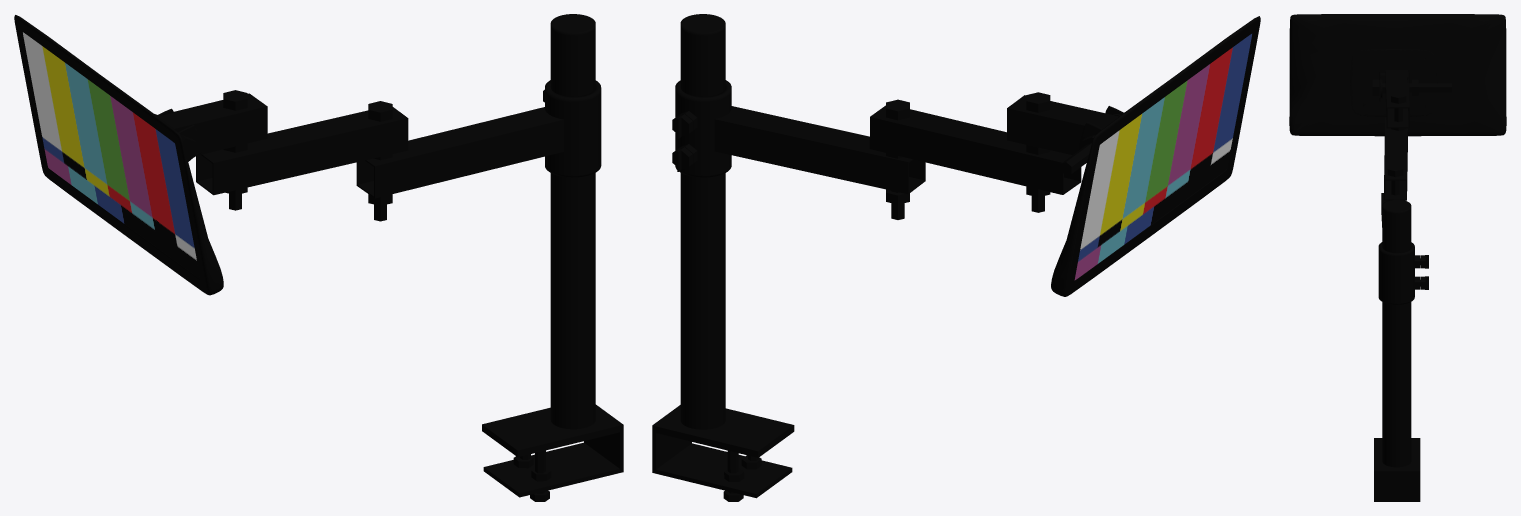
The model's file is Monitor.fbx.
The picture shows the model from 3 angles, left to right: view 1: azimuth 30°, elevation 25°; view 2: azimuth 150°, elevation 25°; view 3: azimuth 270°, elevation 25°; orthographic projection. The views are drawn at different scales.
Parts seen in each view (by area): view 1: Cube.011, Plane, Cylinder.009, Cube.005, Cube.007, Cube.009, Cylinder.012, Cylinder.015; view 2: Cube.011, Plane, Cylinder.009, Cube.005, Cube.007, Cube.009, Cylinder.015, Cylinder.012; view 3: Cube.007, Cube.011, Cylinder.009, Cube.005, Cube.009, Cylinder.013, Cylinder.015, Cylinder.012.
Boxes of the visible parts, x1=… form: Cube.011: x1=482, y1=14, x2=623, y2=501; Plane: x1=23, y1=32, x2=199, y2=278; Cylinder.009: x1=356, y1=80, x2=601, y2=198; Cube.005: x1=196, y1=107, x2=408, y2=195; Cube.007: x1=14, y1=15, x2=223, y2=295; Cube.009: x1=157, y1=93, x2=267, y2=155; Cylinder.012: x1=368, y1=101, x2=392, y2=221; Cylinder.015: x1=223, y1=90, x2=247, y2=210; Cube.011: x1=652, y1=14, x2=794, y2=501; Plane: x1=1074, y1=34, x2=1251, y2=280; Cylinder.009: x1=675, y1=80, x2=925, y2=194; Cube.005: x1=869, y1=105, x2=1081, y2=194; Cube.007: x1=1051, y1=16, x2=1260, y2=296; Cube.009: x1=1007, y1=95, x2=1118, y2=154; Cylinder.015: x1=1026, y1=92, x2=1050, y2=212; Cylinder.012: x1=886, y1=99, x2=909, y2=219; Cube.007: x1=1289, y1=14, x2=1506, y2=136; Cube.011: x1=1374, y1=199, x2=1420, y2=501; Cylinder.009: x1=1378, y1=193, x2=1414, y2=304; Cube.005: x1=1384, y1=117, x2=1407, y2=200; Cube.009: x1=1385, y1=70, x2=1409, y2=128; Cylinder.013: x1=1372, y1=78, x2=1451, y2=98; Cylinder.015: x1=1391, y1=90, x2=1406, y2=130; Cylinder.012: x1=1387, y1=163, x2=1403, y2=195.
Size of the model in its own units: 355 by 349 by 204.
